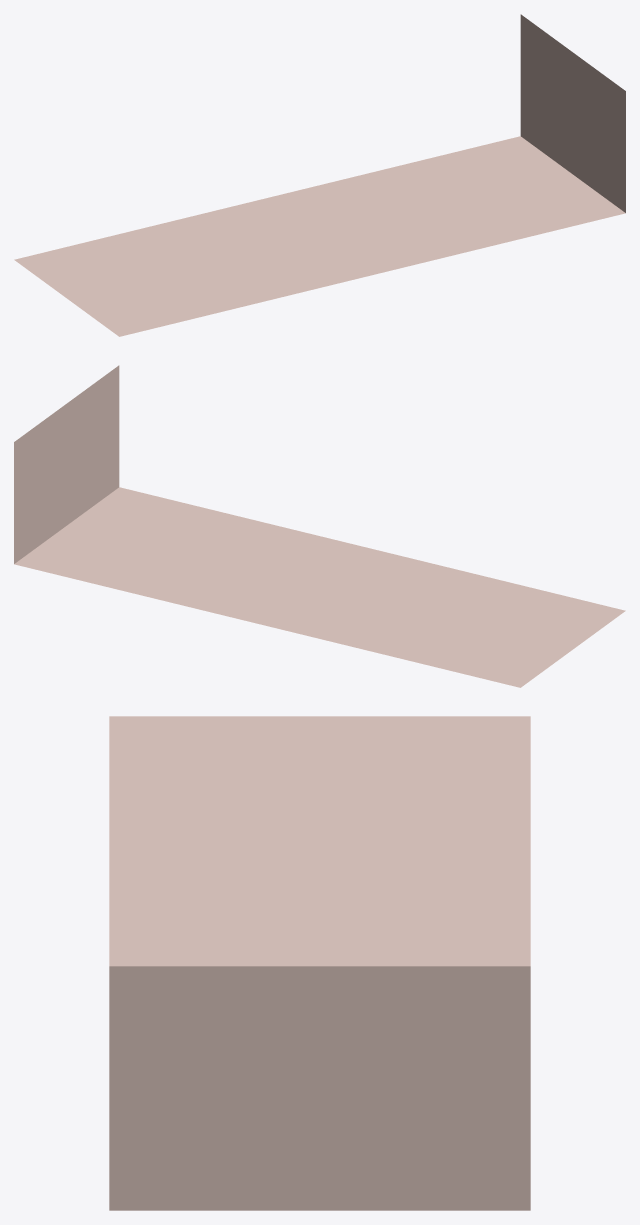
File: Bookshelf_Cieling.fbx
3 views of the same model, one above another, from view 1: azimuth 30°, elevation 25°; view 2: azimuth 150°, elevation 25°; view 3: azimuth 270°, elevation 25° (orthographic). The views are drawn at different scales.
Visible parts, largest first — view 1: wall.039; view 2: wall.039; view 3: wall.039.
Boxes of the visible parts, x1,y1,x2,y2 form: wall.039: (14,14,625,336); wall.039: (14,365,625,687); wall.039: (109,716,530,1210).
Size of the model in its own units: 278 by 63.94 by 100.
